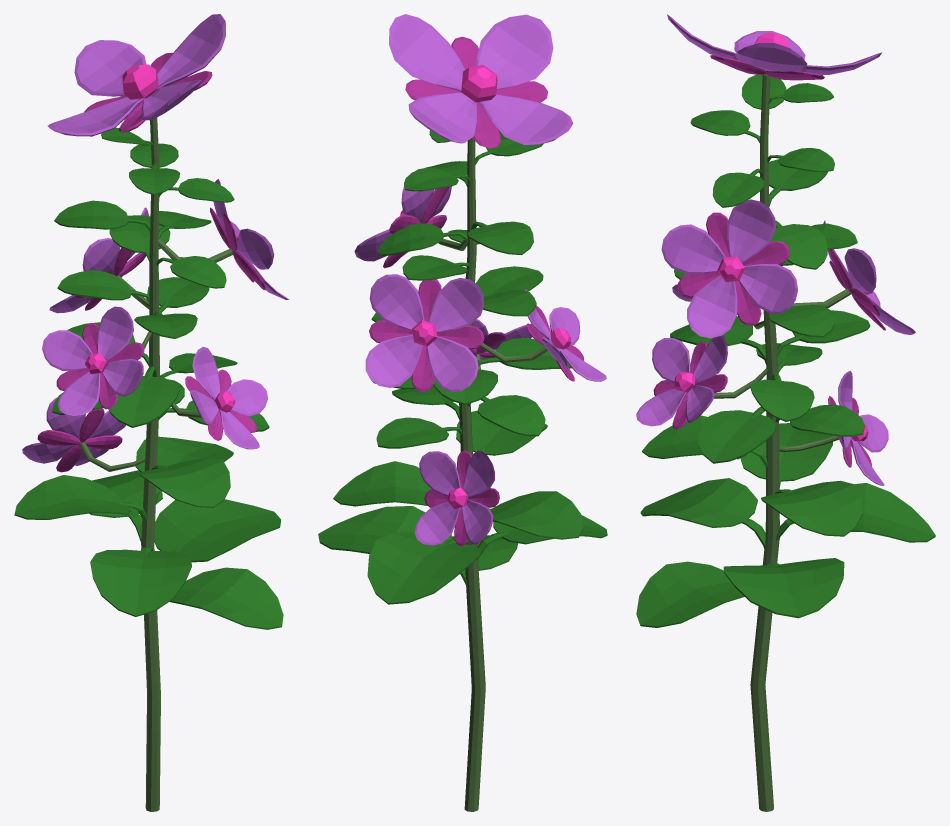
File: Blossom_3.fbx
The picture shows the model from 3 angles, left to right: view 1: azimuth 30°, elevation 25°; view 2: azimuth 150°, elevation 25°; view 3: azimuth 270°, elevation 25°; orthographic projection. The views are drawn at different scales.
Visible parts, largest first — view 1: Blossom_3; view 2: Blossom_3; view 3: Blossom_3.
Boxes of the visible parts, <box> form: Blossom_3: <box>14,14,289,811</box>; Blossom_3: <box>318,14,607,811</box>; Blossom_3: <box>636,14,935,811</box>.
Bounding box in the file's own units: 2170 × 6181 × 2093.
